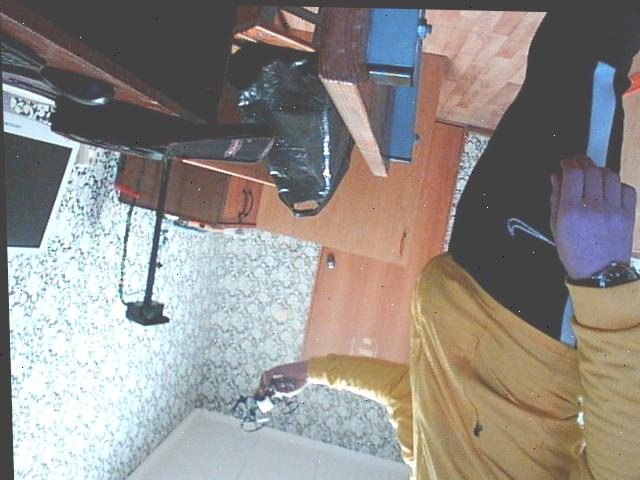drone: (219, 375, 304, 440)
